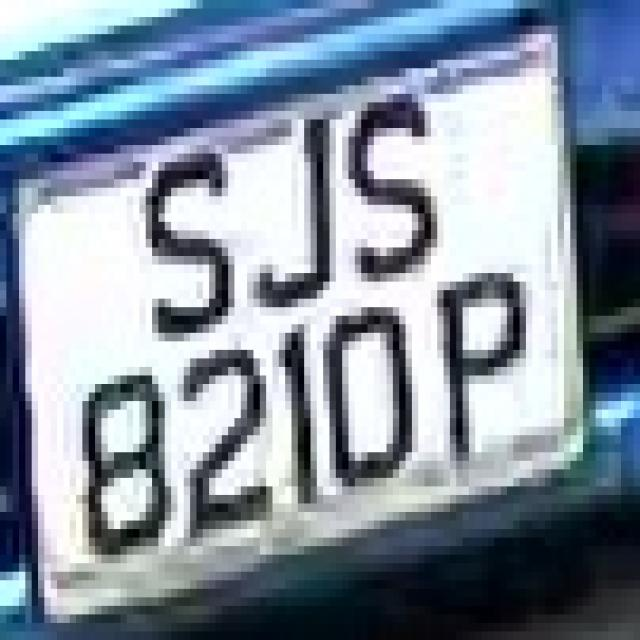0: (330, 273, 424, 495)
1: (266, 290, 323, 529)
2: (171, 316, 266, 520)
8: (57, 350, 184, 597)
J: (228, 77, 336, 316)
P: (418, 256, 552, 495)
S: (342, 77, 450, 307), (133, 136, 235, 367)
